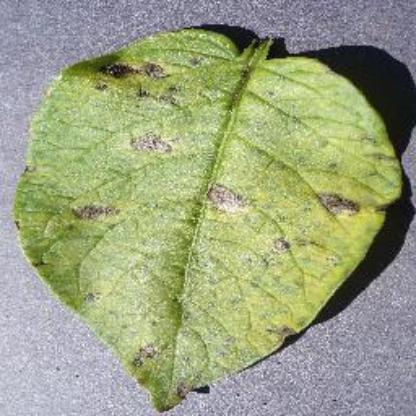Early-Blight: (16, 20, 404, 410)
